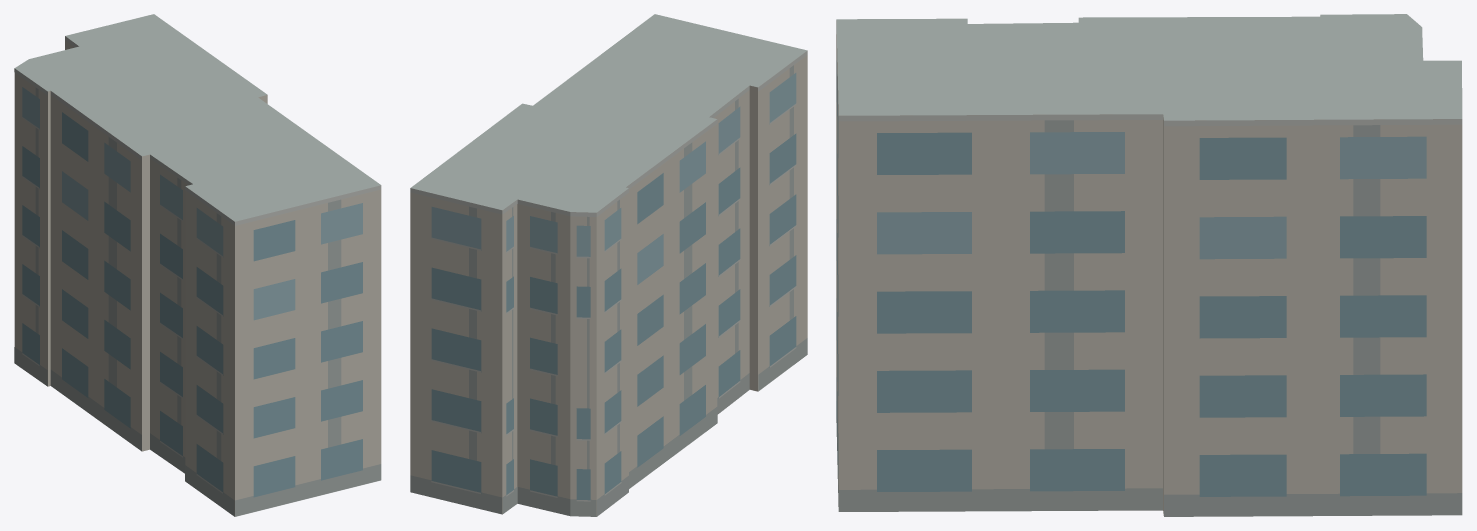
The model's file is survey-upis-32606883.glb.
The picture shows the model from 3 angles, left to right: view 1: azimuth 30°, elevation 25°; view 2: azimuth 150°, elevation 25°; view 3: azimuth 270°, elevation 25°; orthographic projection. The views are drawn at different scales.
Parts seen in each view (by area): view 1: survey-upis-32606883.tmp; view 2: survey-upis-32606883.tmp; view 3: survey-upis-32606883.tmp.
Part boxes in pixels (x1=…): survey-upis-32606883.tmp: x1=14, y1=14, x2=381, y2=516; survey-upis-32606883.tmp: x1=410, y1=14, x2=807, y2=516; survey-upis-32606883.tmp: x1=836, y1=14, x2=1462, y2=516.
Size of the model in its own units: 9.82 by 17 by 24.35.
